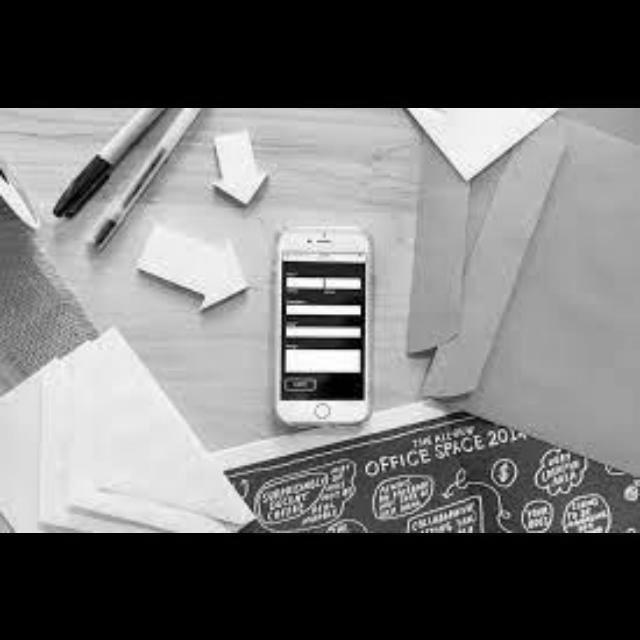fake: (280, 232, 368, 416)
